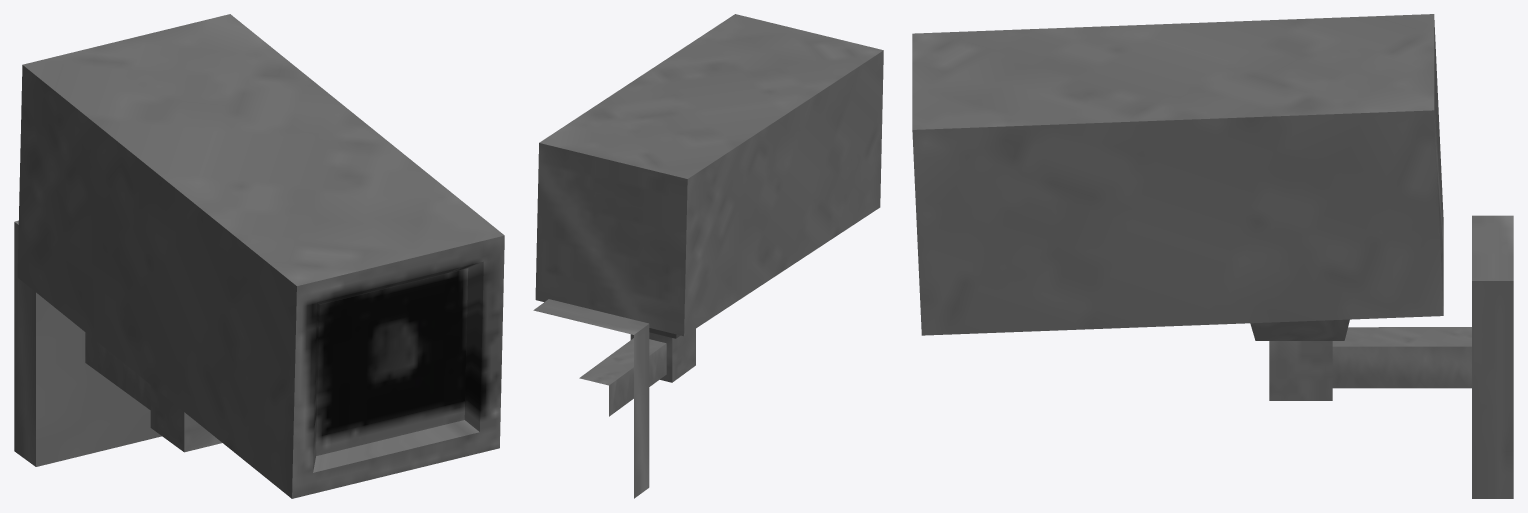
Rendered from camera.glb.
The picture shows the model from 3 angles, left to right: view 1: azimuth 30°, elevation 25°; view 2: azimuth 150°, elevation 25°; view 3: azimuth 270°, elevation 25°; orthographic projection. The views are drawn at different scales.
Parts seen in each view (by area): view 1: Cube_006, Cube_008; view 2: Cube_006, Cube_008; view 3: Cube_006, Cube_008.
Part boxes in pixels (bbox=[...]): Cube_006: bbox=[17, 14, 504, 498]; Cube_008: bbox=[14, 220, 221, 466]; Cube_006: bbox=[535, 14, 883, 336]; Cube_008: bbox=[533, 299, 695, 498]; Cube_006: bbox=[912, 14, 1443, 335]; Cube_008: bbox=[1250, 215, 1513, 498].
Size of the model in its own units: 0.125 by 0.2443 by 0.3294.
1 material, 1 textured.
